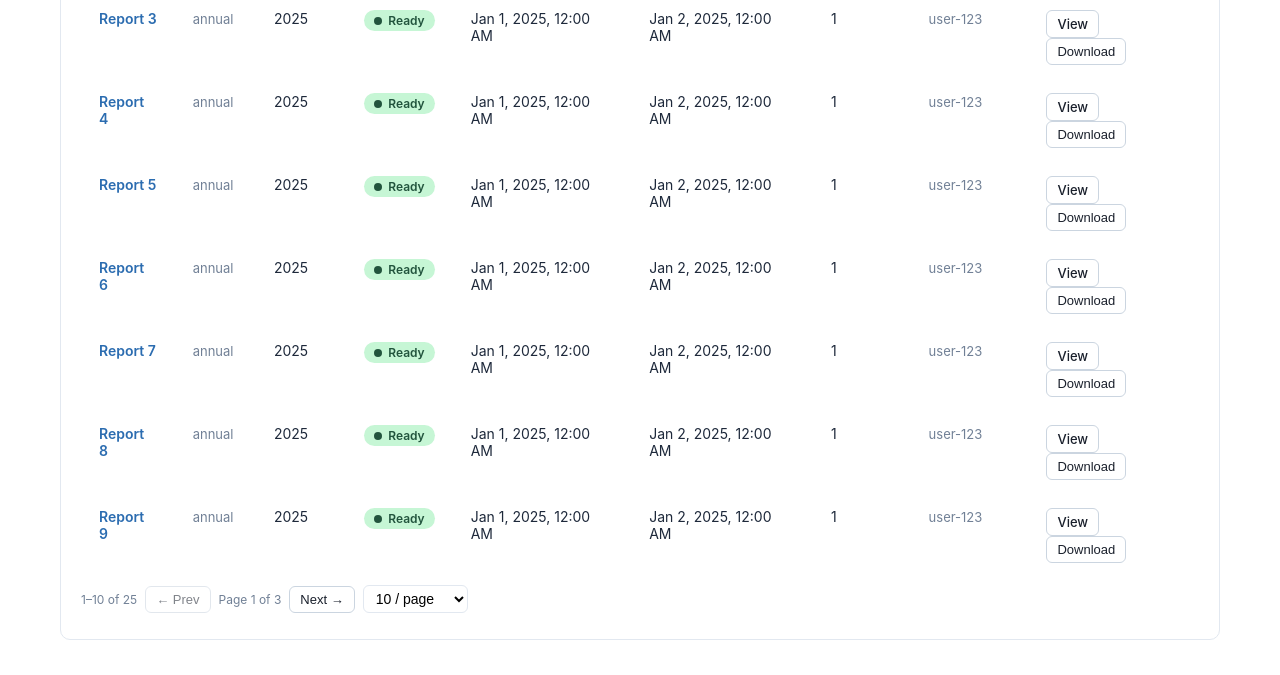
it: ReportsPage (BL-2) › loads with an honest limit and paginates client-side
The width and height of the screenshot is (1280, 675).
(page scrolled)
Expected: the text "1–10 of 25" is shown, [81,592,137,606]
Expected: the text "Page 1 of 3" is shown, [218,592,281,606]
Click the button "Next →". click: (322, 599)
box: [289,586,355,612]
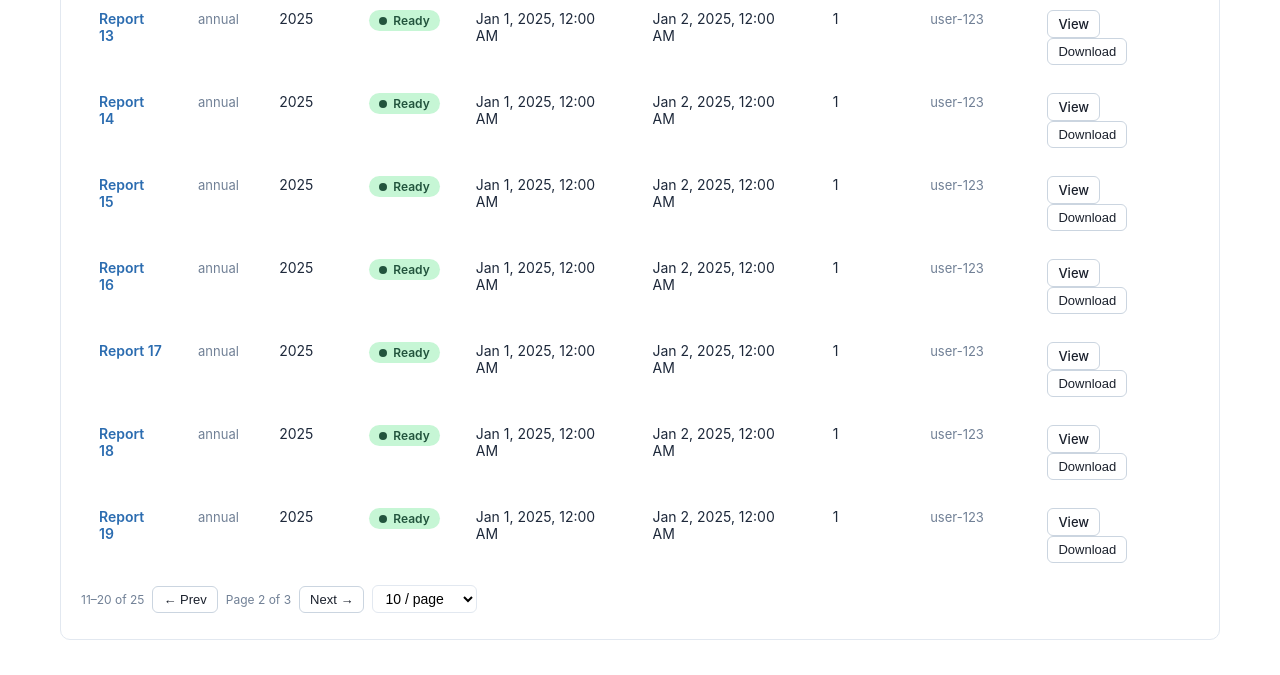
Expected: the text "11–20 of 25" is shown, [81,592,144,606]
Select "25 / page" in the dropdown named "Rows per page". click: (425, 599)
box: [372,585,478,613]
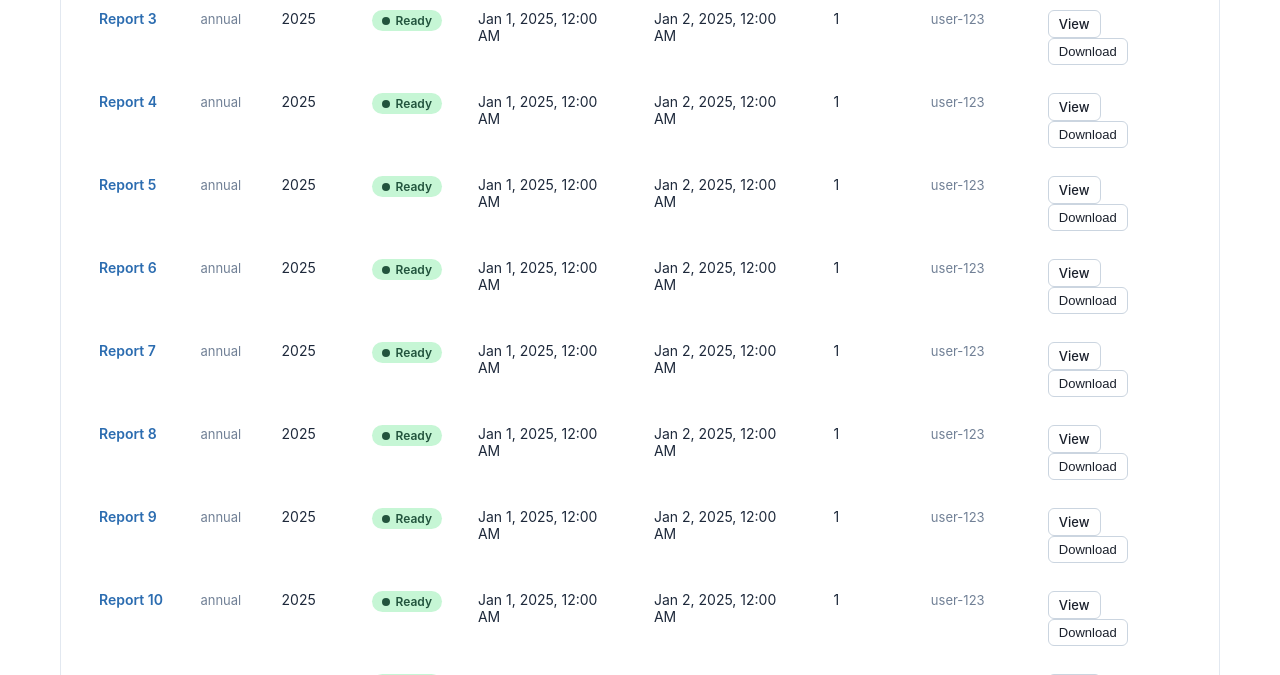
Expected: the text "Page 1 of 3" is not shown
Expected: the number of rows is 26
